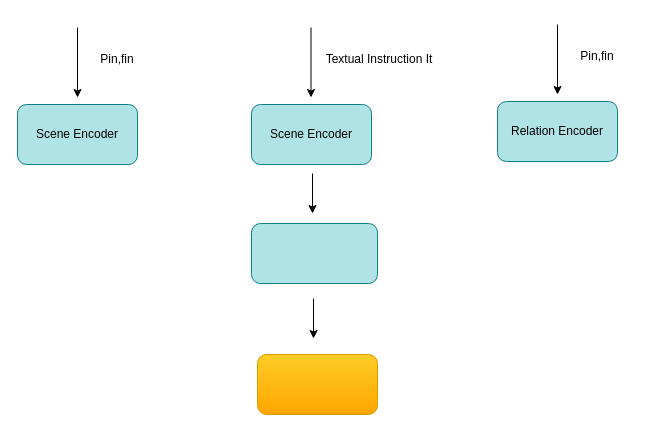
This 645x432 diagram has some shape labels left out. Each missing label, with the box of its shape:
Tokenizer: (250, 222, 378, 284)
Word Embeddings: (256, 354, 378, 414)
